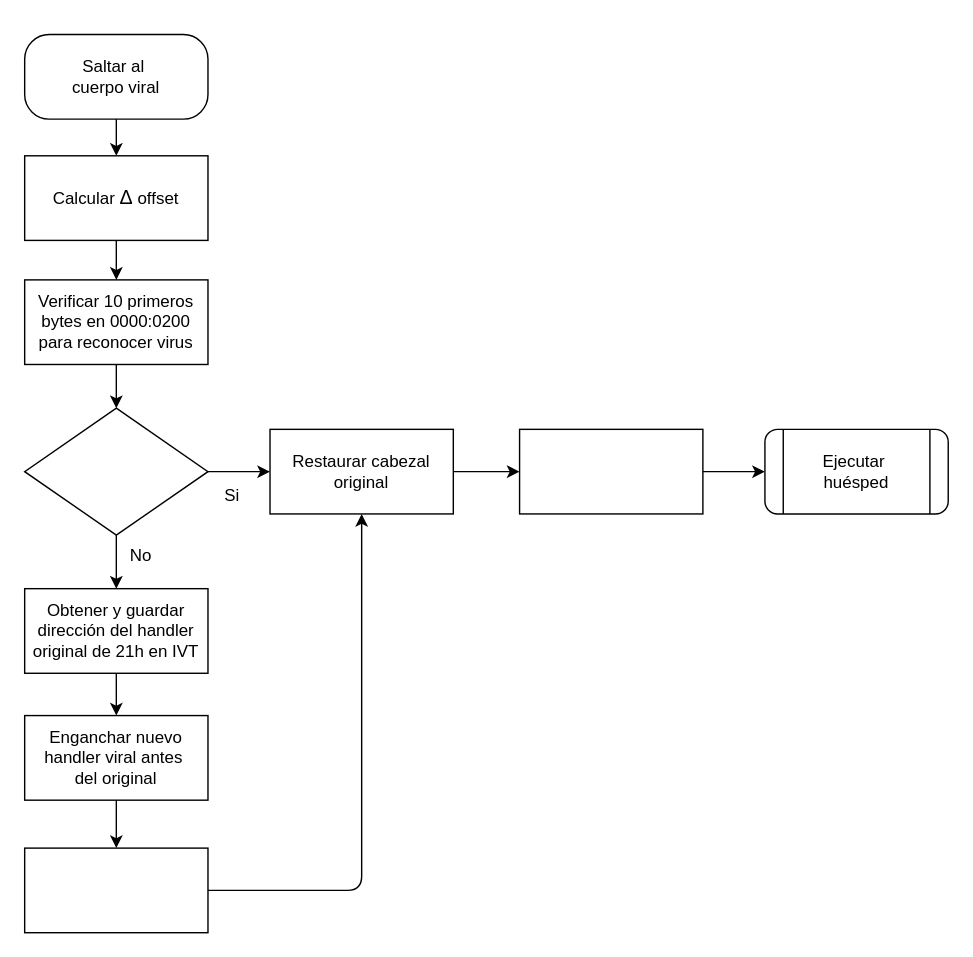
Some shapes in this 973 by 957 pixel diagram are drawn without their labels. Here are the shapes that lost their labels. From the top down, the box of each, then its label:
(23, 407, 208, 535): Ya se encuentra en memoria?
(518, 428, 703, 514): Saltar a CS:0100
(23, 847, 208, 933): Copiar virus a la IVT en 0000:0200
